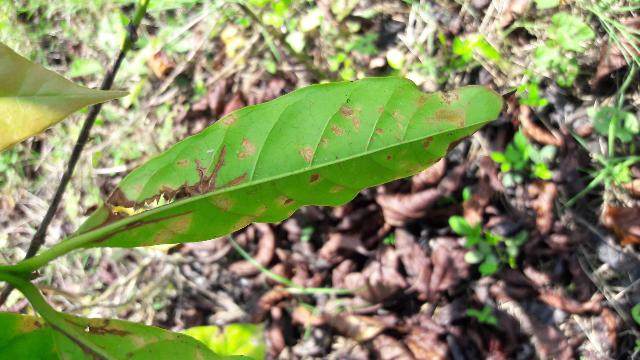red_spider_mite: (59, 78, 507, 252)
